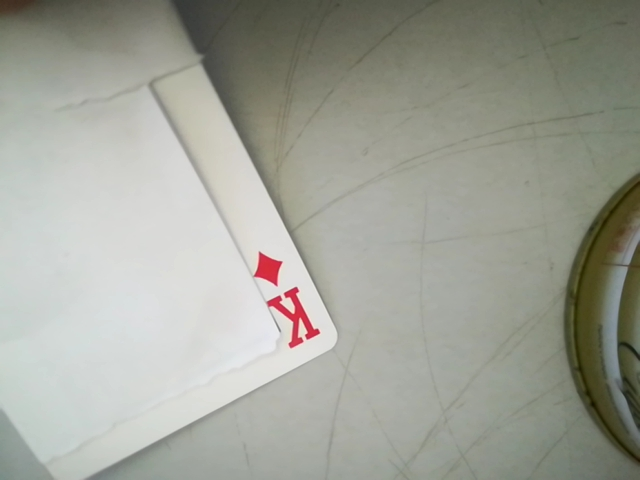fk k: (244, 248, 323, 352)
